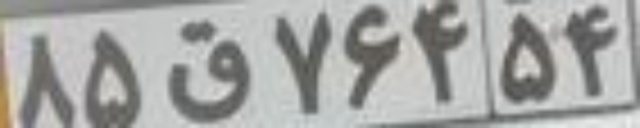4: (413, 0, 468, 103), (564, 4, 618, 97)
5: (82, 29, 140, 126), (501, 11, 558, 101)
6: (340, 3, 400, 112)
7: (273, 4, 333, 116)
8: (7, 33, 78, 127)
ghaf: (161, 18, 249, 122)
